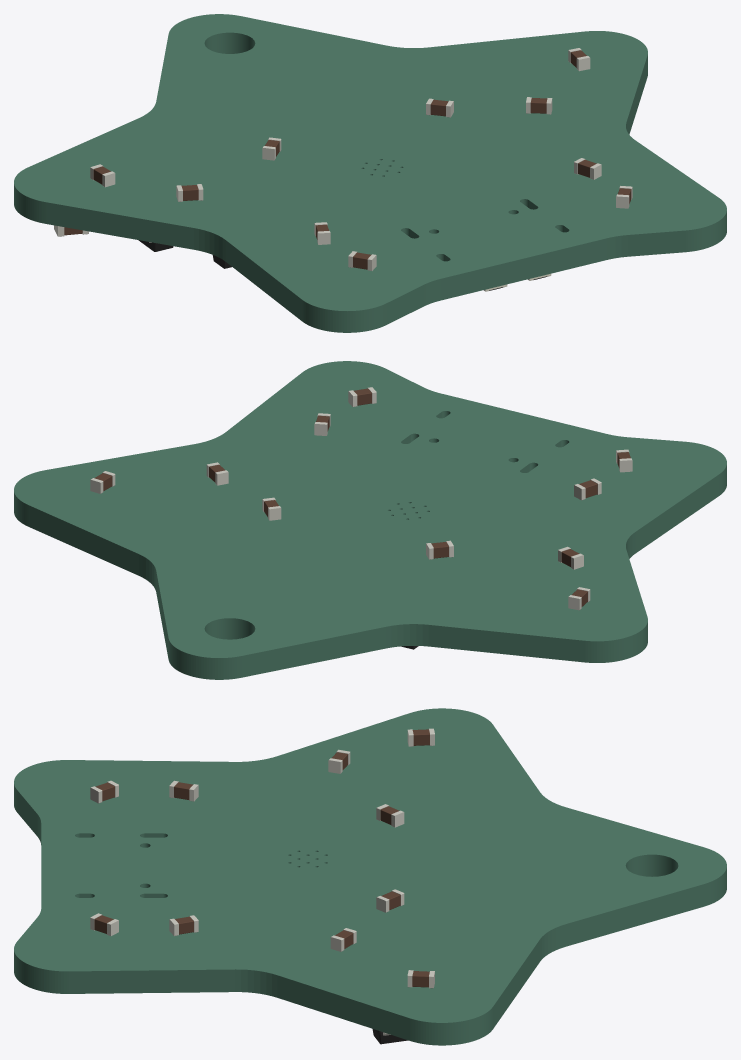
Rendered from star-notifier.glb.
3 renders of one model, top to bottom at view 1: azimuth 30°, elevation 25°; view 2: azimuth 150°, elevation 25°; view 3: azimuth 270°, elevation 25°, orthographic. The views are drawn at different scales.
Visible parts, largest first — view 1: =>[0:1:1:16]; view 2: =>[0:1:1:16]; view 3: =>[0:1:1:16].
Boxes of the visible parts, x1,y1,x2,y2 form: =>[0:1:1:16]: [14, 14, 726, 332]; =>[0:1:1:16]: [14, 361, 726, 679]; =>[0:1:1:16]: [14, 708, 726, 1045].
Size of the model in its own units: 0.0451 by 0.00568 by 0.0432.
